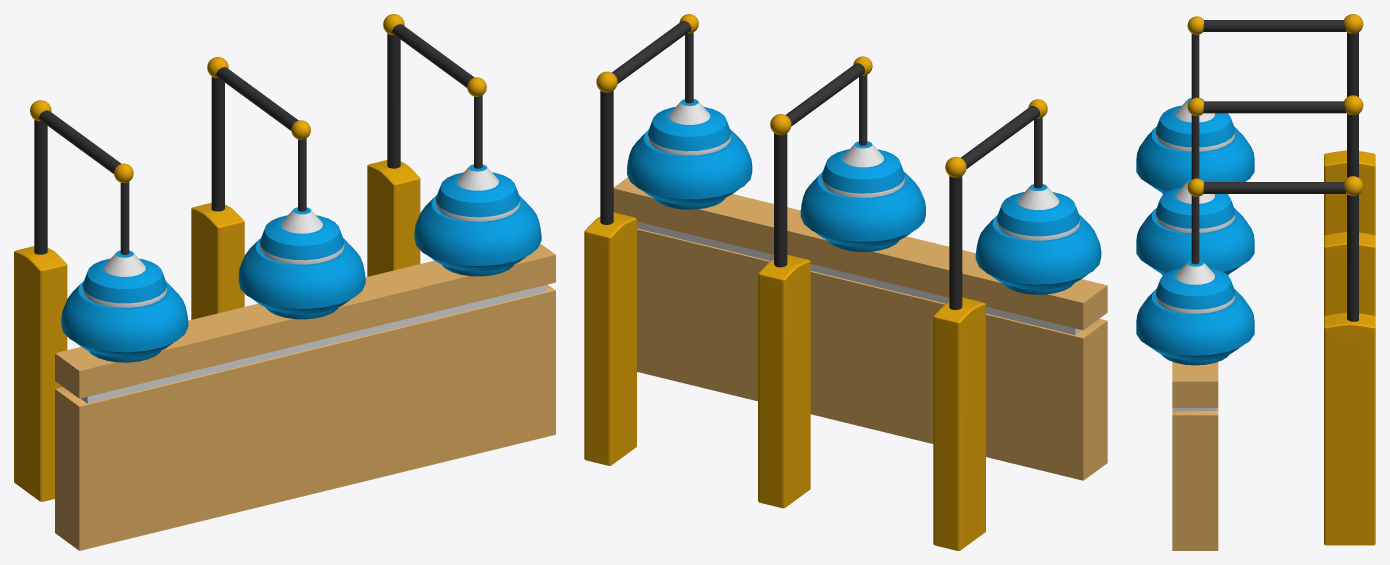
3 views of the same model, side by side, from view 1: azimuth 30°, elevation 25°; view 2: azimuth 150°, elevation 25°; view 3: azimuth 270°, elevation 25° (orthographic). The views are drawn at different scales.
Visible parts, largest first — view 1: pCube29, polySurface664, group32_pCylinder3, group32_pCylinder2, group32_pCylinder1, polySurface663, polySurface519; view 2: pCube29, polySurface519, polySurface664, polySurface663, group32_pCylinder1, group32_pCylinder3, group32_pCylinder2; view 3: polySurface519, group32_pCylinder1, pCube29, group32_pCylinder2, group32_pCylinder3, polySurface663, polySurface664.
Boxes of the visible parts, left/top/right/bottom form: pCube29: left=55, top=243, right=555, bottom=550; polySurface664: left=14, top=100, right=133, bottom=501; group32_pCylinder3: left=61, top=182, right=188, bottom=362; group32_pCylinder2: left=238, top=138, right=365, bottom=319; group32_pCylinder1: left=414, top=95, right=541, bottom=276; polySurface663: left=191, top=57, right=310, bottom=319; polySurface519: left=367, top=14, right=486, bottom=276; pCube29: left=613, top=177, right=1107, bottom=480; polySurface519: left=584, top=14, right=698, bottom=465; polySurface664: left=933, top=99, right=1047, bottom=550; polySurface663: left=758, top=56, right=872, bottom=508; group32_pCylinder1: left=627, top=32, right=752, bottom=209; group32_pCylinder3: left=975, top=117, right=1101, bottom=294; group32_pCylinder2: left=800, top=75, right=925, bottom=251; polySurface519: left=1187, top=176, right=1375, bottom=545; group32_pCylinder1: left=1136, top=195, right=1254, bottom=365; pCube29: left=1172, top=362, right=1218, bottom=550; group32_pCylinder2: left=1136, top=115, right=1254, bottom=275; group32_pCylinder3: left=1136, top=33, right=1254, bottom=194; polySurface663: left=1187, top=95, right=1375, bottom=316; polySurface664: left=1187, top=14, right=1375, bottom=235.
Size of the model in its own units: 12.76 by 9.89 by 5.9.
